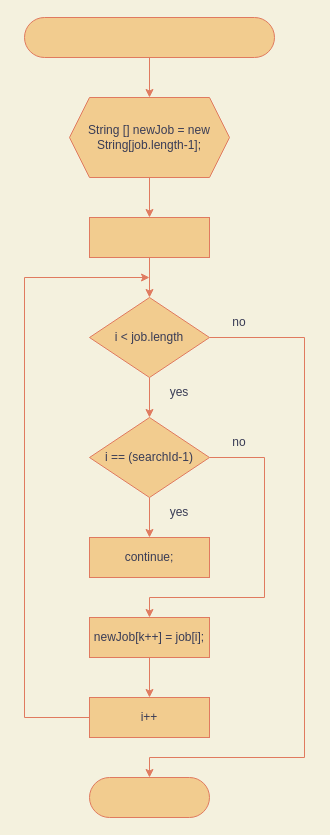
The diagram is 330 pixels wide and 835 high, and some of its shapes have lost their labels. The shapes that lost their labels are listed below. From the top down, each one's centre as x and y in pixels, then its label:
At (x=149, y=37): "deleteJob(int searchId, String [] job)".
At (x=149, y=237): "int i = 0, k = 0".
At (x=149, y=797): "return newJob".
